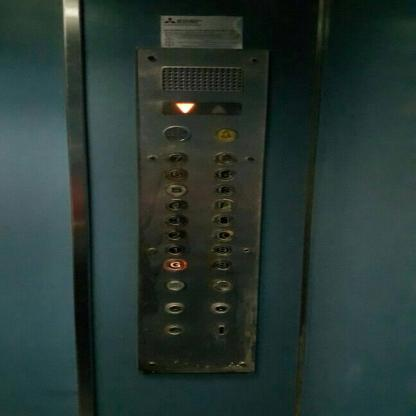1: (164, 243, 188, 256)
10: (210, 228, 234, 242)
11: (210, 213, 235, 226)
13: (211, 182, 237, 196)
14: (211, 168, 237, 182)
2: (164, 228, 188, 241)
3: (164, 214, 188, 226)
4: (164, 198, 188, 211)
5: (163, 183, 188, 196)
6: (164, 167, 188, 181)
7: (163, 151, 189, 165)
8: (210, 258, 234, 271)
9: (210, 243, 235, 256)
G: (162, 258, 187, 271)
alarm: (213, 127, 238, 142)
blur: (159, 125, 190, 142), (210, 198, 236, 212), (211, 152, 237, 166)
keyhole: (163, 301, 186, 315), (208, 302, 230, 314), (165, 324, 183, 336)
switch: (214, 322, 228, 337)
text: (210, 278, 234, 292), (164, 279, 186, 291)
